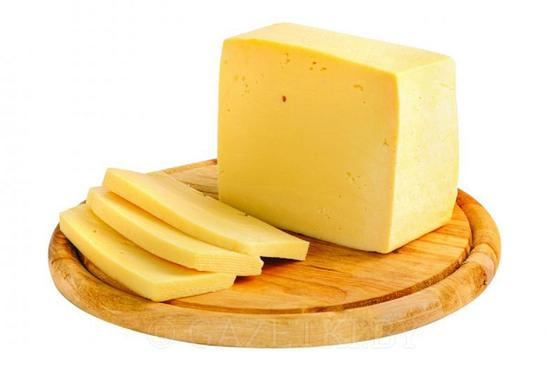cheese: (217, 24, 462, 252)
